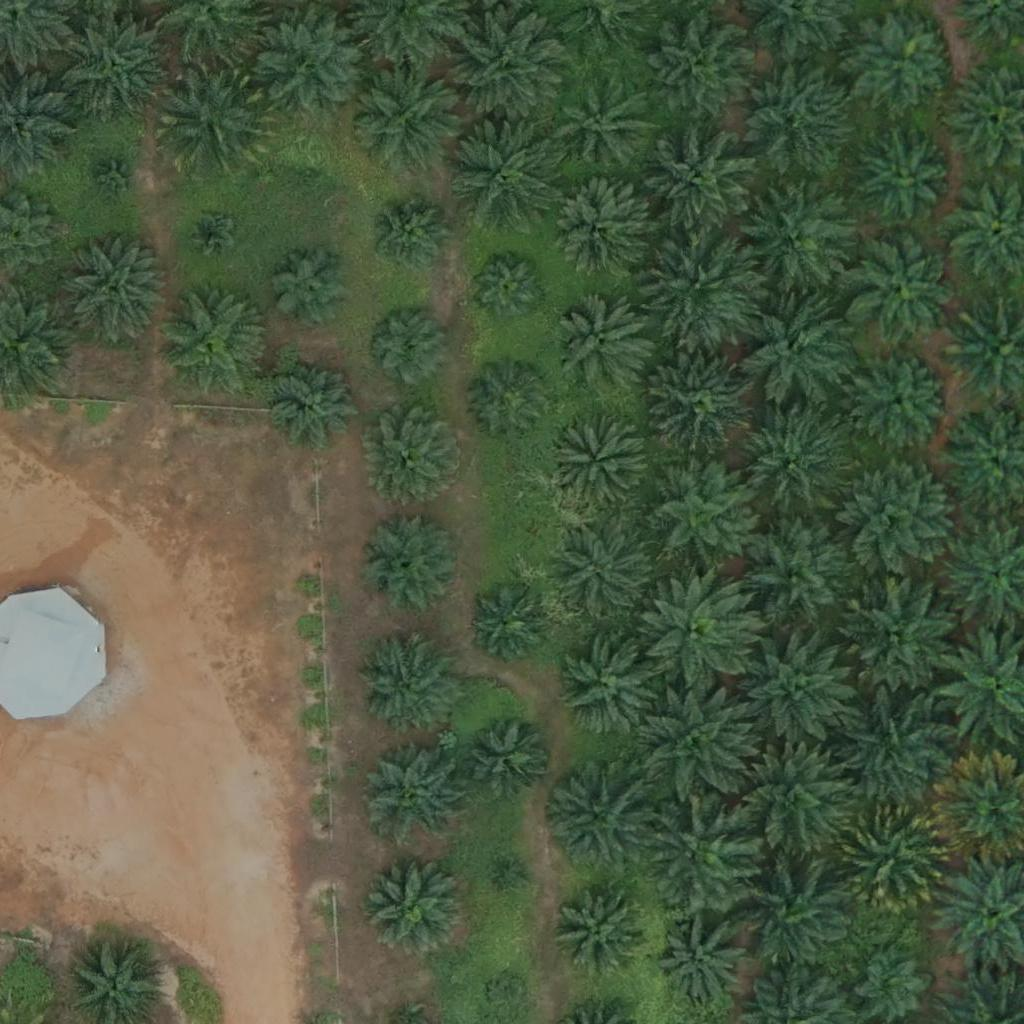Kelapa_Sawit: (447, 110, 560, 224), (542, 761, 655, 875), (738, 60, 851, 173), (644, 14, 757, 127), (352, 61, 465, 174), (646, 232, 759, 345), (647, 349, 760, 462), (743, 180, 856, 293), (740, 294, 853, 407), (734, 405, 847, 518), (742, 520, 855, 633), (842, 460, 955, 573), (845, 574, 958, 687), (844, 692, 957, 805), (835, 802, 948, 915), (644, 125, 756, 239), (453, 8, 565, 122), (157, 286, 269, 400), (642, 689, 754, 803), (736, 859, 848, 973), (645, 795, 757, 909), (156, 62, 268, 175), (259, 8, 371, 121), (58, 5, 170, 118), (58, 236, 170, 349), (642, 458, 754, 571), (641, 579, 753, 692), (744, 631, 856, 744), (847, 234, 959, 347), (733, 746, 845, 859), (854, 11, 954, 112), (851, 125, 951, 226), (355, 633, 455, 734), (547, 182, 647, 283), (553, 294, 653, 395), (548, 412, 648, 513), (853, 351, 953, 452), (363, 744, 463, 845), (361, 852, 461, 953), (555, 77, 655, 177), (365, 407, 465, 507), (360, 514, 460, 614), (558, 526, 658, 626), (560, 639, 660, 739), (274, 359, 362, 447), (268, 244, 355, 332), (367, 194, 454, 282), (364, 303, 451, 391), (466, 358, 553, 446), (658, 918, 745, 1006), (558, 885, 645, 973), (464, 714, 551, 802), (471, 586, 546, 662), (853, 946, 928, 1022), (469, 250, 544, 325), (92, 152, 142, 203), (186, 208, 236, 259), (283, 145, 333, 195), (489, 977, 527, 1015), (502, 862, 527, 887)
